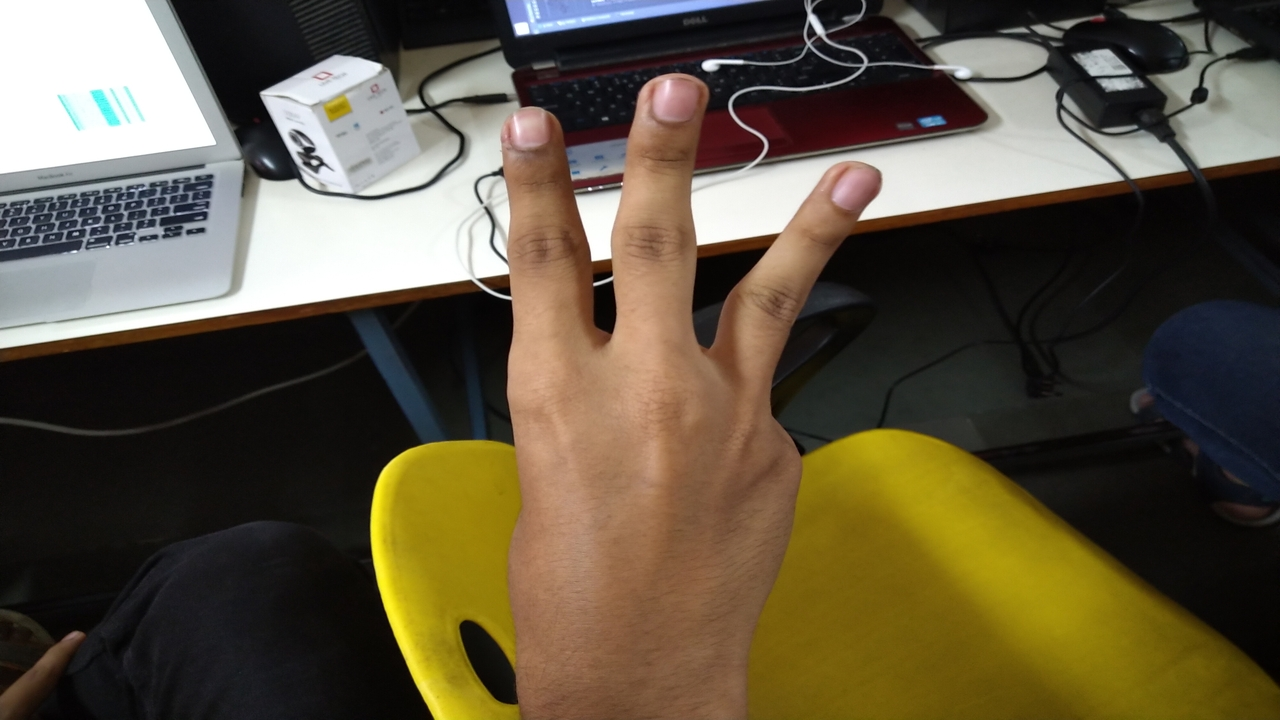fingertip: (634, 66, 710, 132), (820, 150, 888, 216), (498, 96, 560, 164)
